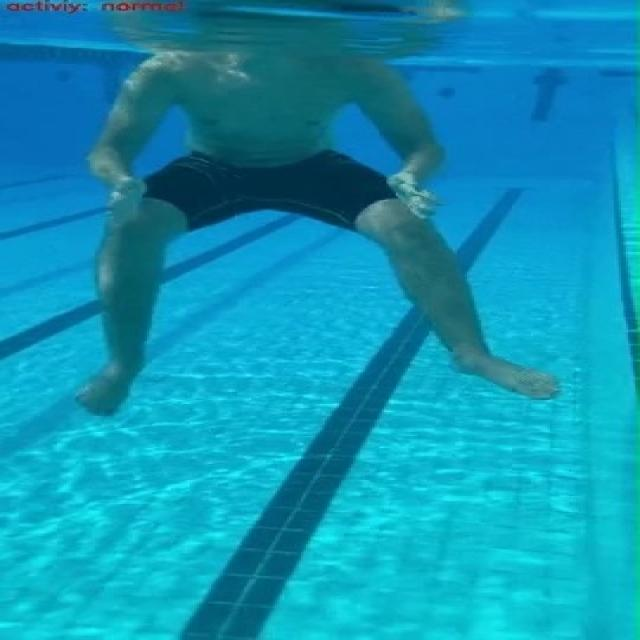Drowning: (70, 42, 561, 420)
